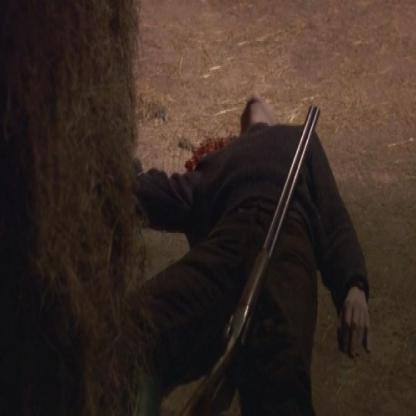Guns: (174, 98, 323, 415)
